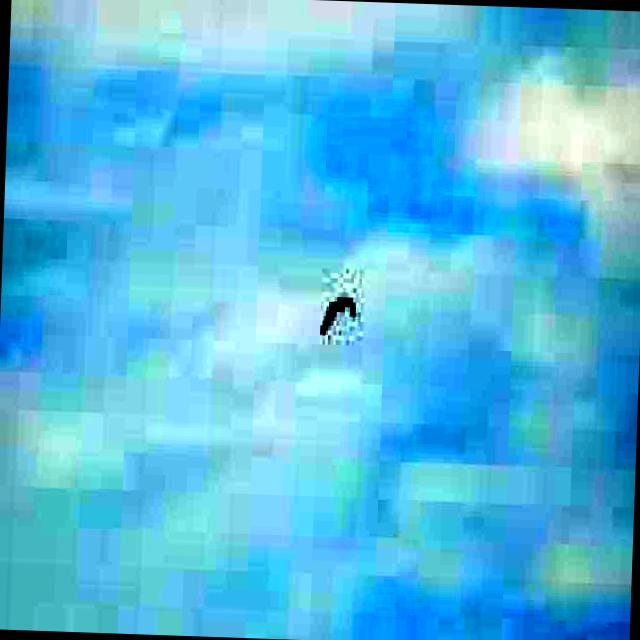bird: (318, 279, 360, 347)
